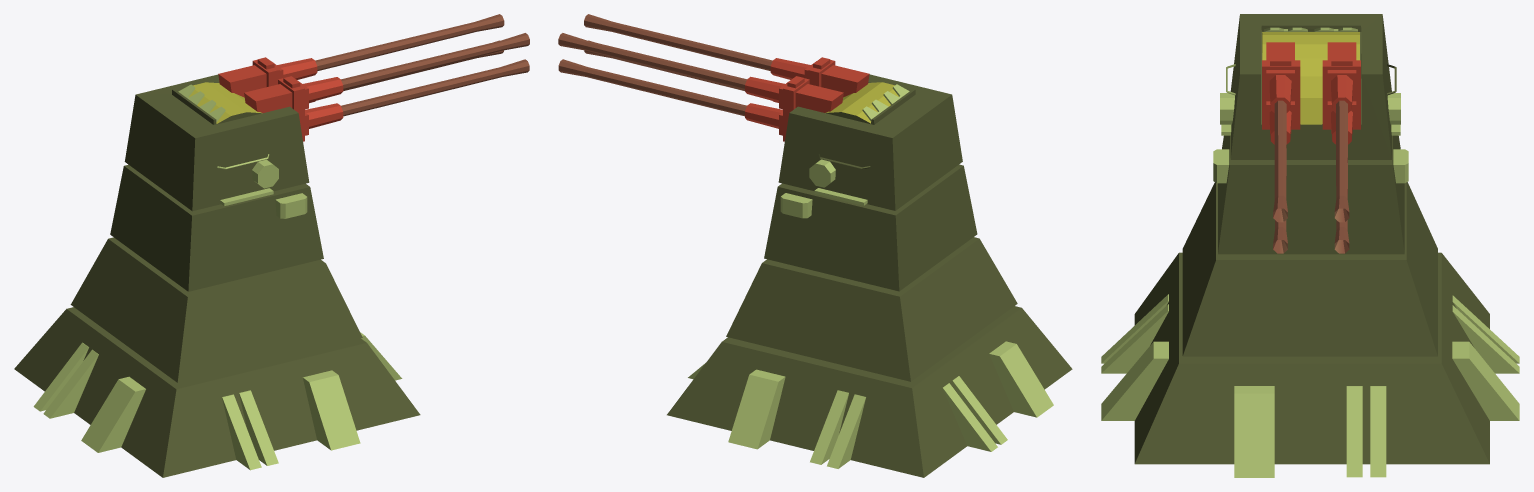
The model's file is Cannon-R-4.fbx.
3 renders of one model, left to right at view 1: azimuth 30°, elevation 25°; view 2: azimuth 150°, elevation 25°; view 3: azimuth 270°, elevation 25°, orthographic. The views are drawn at different scales.
Visible parts, largest first — view 1: russian_level1_8:base, russian_level1_5:attack; view 2: russian_level1_8:base, russian_level1_5:attack; view 3: russian_level1_8:base, russian_level1_5:attack.
Boxes of the visible parts, x1=… form: russian_level1_8:base: x1=14, y1=74, x2=420, y2=477; russian_level1_5:attack: x1=218, y1=14, x2=529, y2=141; russian_level1_8:base: x1=667, y1=74, x2=1072, y2=477; russian_level1_5:attack: x1=558, y1=14, x2=869, y2=141; russian_level1_8:base: x1=1101, y1=14, x2=1519, y2=477; russian_level1_5:attack: x1=1262, y1=42, x2=1360, y2=253.
Bounding box in the file's own units: 1304 × 850 × 881.
